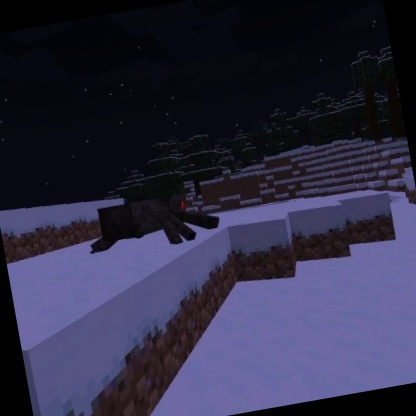spider: (81, 183, 227, 263)
